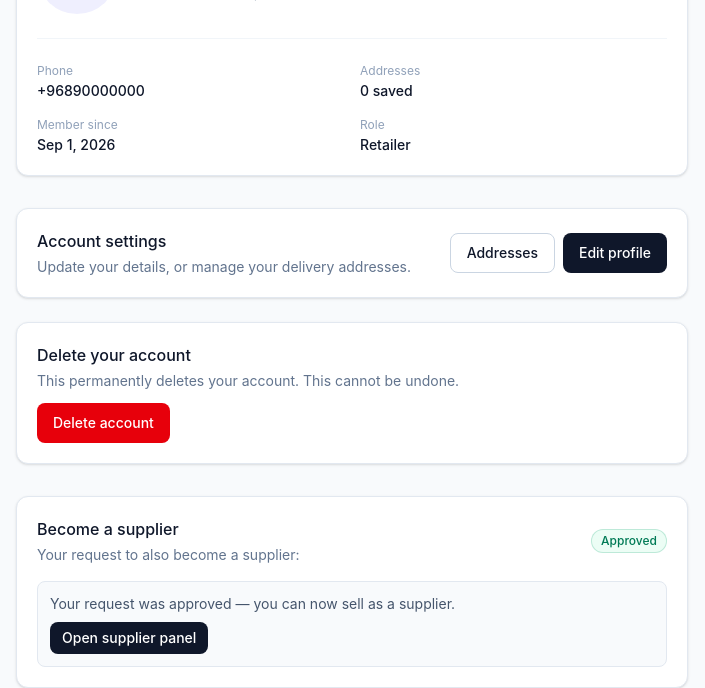
Test: ProfilePage (retailer) — supplier request outcome › stays put and explains when the account does not hold SUPPLIER yet
The width and height of the screenshot is (705, 688).
(page scrolled)
What coordinates should you click on to do the following:
click the button "Open supplier panel"
I would click on:
 (129, 638)
Its box is [50,622,208,654].
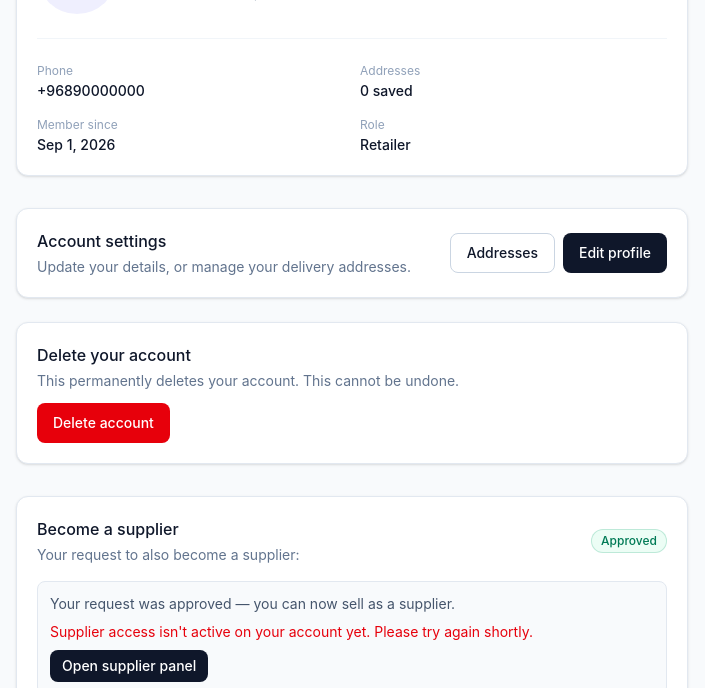
Expected: the text "Supplier access isn't active on your account yet" is shown, [50,623,533,640]
